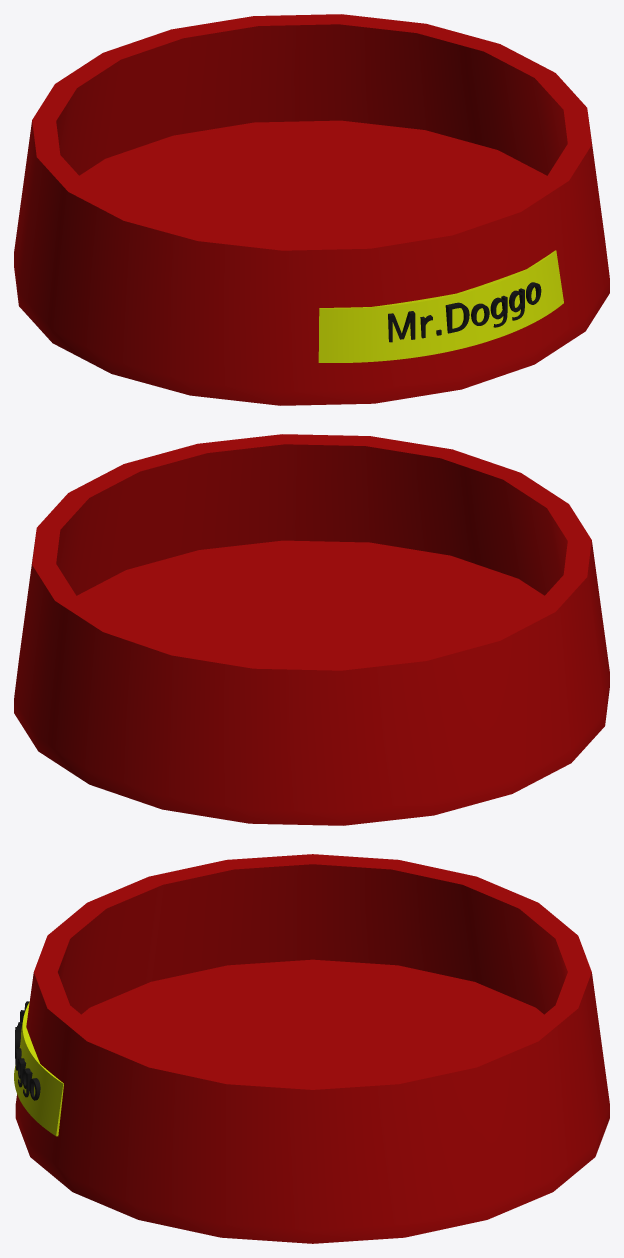
The model's file is dogbowlempty.fbx.
The picture shows the model from 3 angles, top to bottom: view 1: azimuth 30°, elevation 25°; view 2: azimuth 150°, elevation 25°; view 3: azimuth 270°, elevation 25°; orthographic projection.
Visible parts, largest first — view 1: pCylinder1, pCube1, typeMesh1; view 2: pCylinder1; view 3: pCylinder1, pCube1, typeMesh1.
Part boxes in pixels (x1,y1,x2,y2): pCylinder1: (14, 14, 609, 405); pCube1: (318, 250, 563, 362); typeMesh1: (388, 282, 541, 342); pCylinder1: (14, 434, 609, 825); pCylinder1: (15, 854, 609, 1243); pCube1: (14, 1002, 63, 1136); typeMesh1: (15, 1001, 40, 1100).
Size of the model in its own units: 1.3 by 0.3537 by 1.31.
